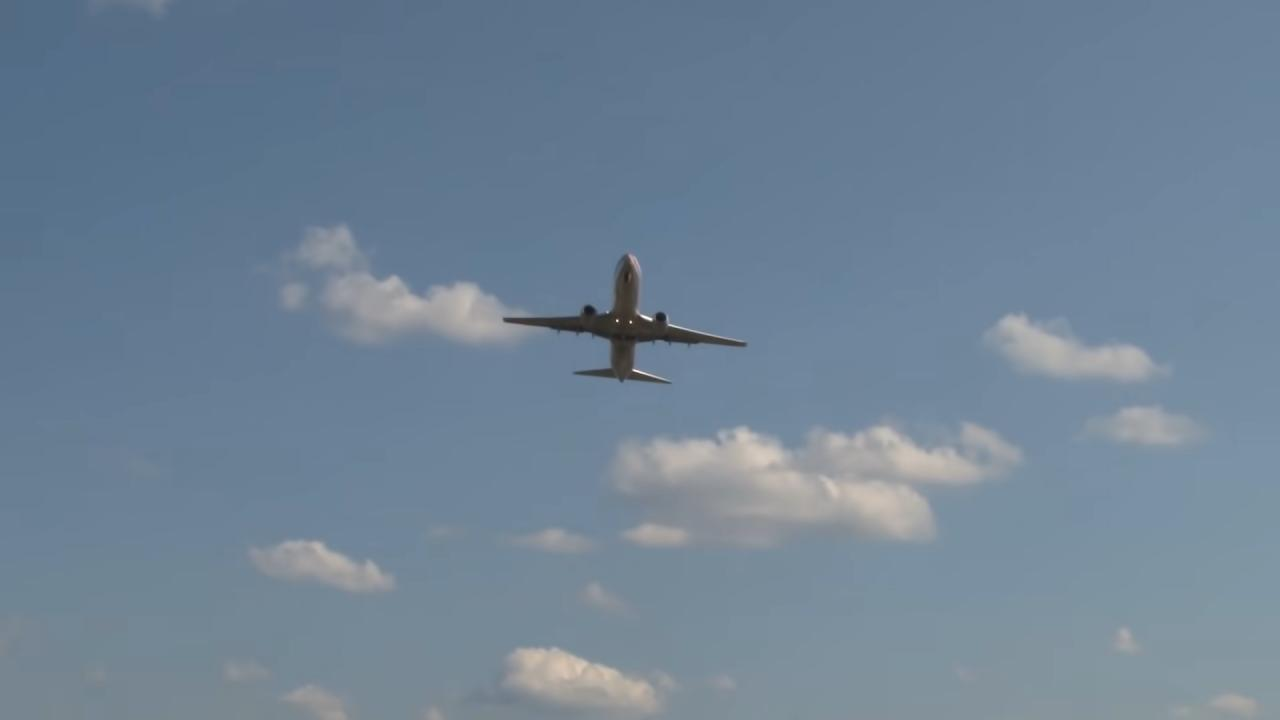Airplane: (490, 243, 757, 396)
